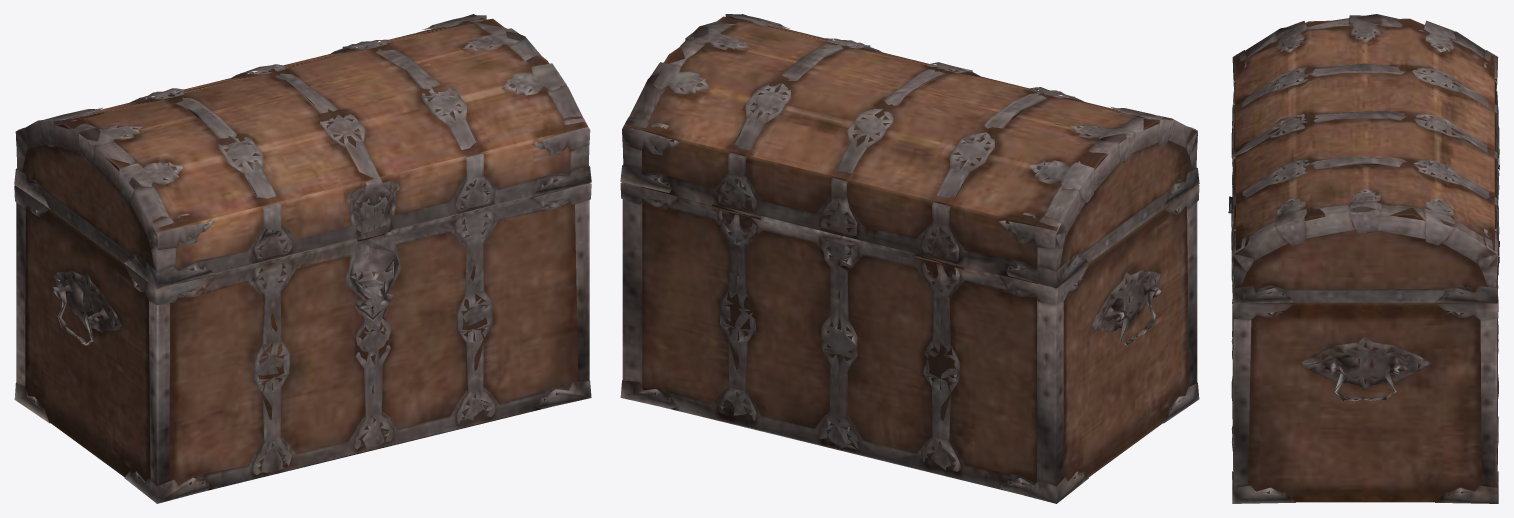
The model's file is chest.glb.
3 views of the same model, side by side, from view 1: azimuth 30°, elevation 25°; view 2: azimuth 150°, elevation 25°; view 3: azimuth 270°, elevation 25° (orthographic). The views are drawn at different scales.
Visible parts, largest first — view 1: treasure_chest_bottom, treasure_chest_lid, treasure_chest_lock; view 2: treasure_chest_bottom, treasure_chest_lid; view 3: treasure_chest_lid, treasure_chest_bottom, treasure_chest_handle_right.
Boxes of the visible parts, left/top/right/bottom form: treasure_chest_bottom: left=14, top=183, right=591, bottom=503; treasure_chest_lid: left=14, top=14, right=591, bottom=288; treasure_chest_lock: left=349, top=235, right=398, bottom=321; treasure_chest_bottom: left=620, top=182, right=1199, bottom=503; treasure_chest_lid: left=620, top=14, right=1199, bottom=288; treasure_chest_lid: left=1228, top=14, right=1499, bottom=303; treasure_chest_bottom: left=1231, top=107, right=1498, bottom=503; treasure_chest_handle_right: left=1324, top=364, right=1407, bottom=401.
Size of the model in its own units: 0.9598 by 0.6183 by 0.5201.
1 material, 1 textured.
